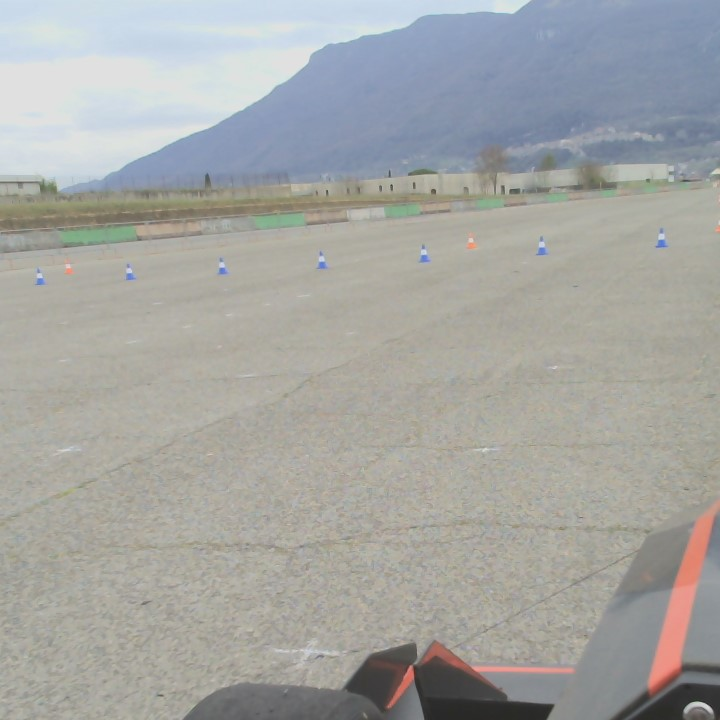cone: (33, 266, 45, 287), (215, 258, 228, 277), (655, 225, 665, 248), (419, 244, 429, 263), (537, 237, 547, 255), (125, 264, 135, 281), (316, 251, 326, 267)
